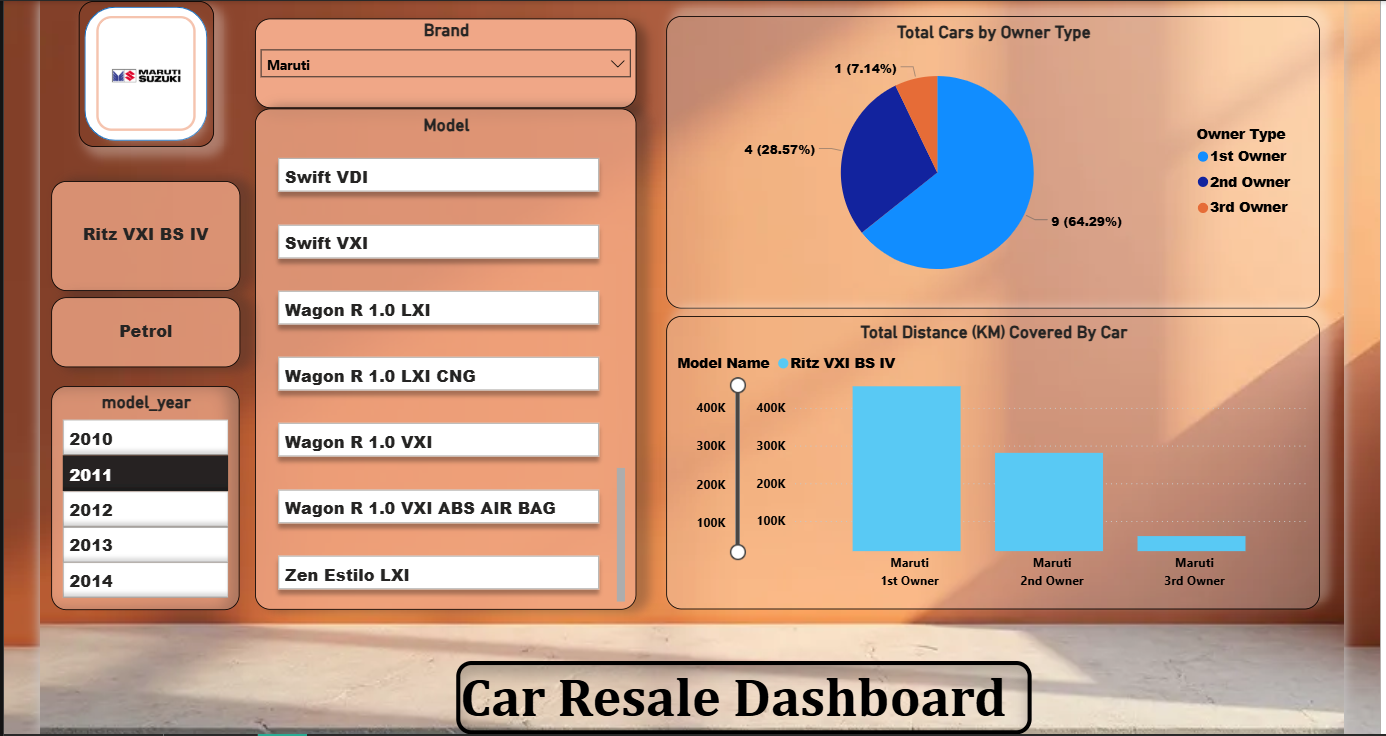

Layout of this report page (visuals, bound fields, positions):
{"tool":"powerbi","page":{"name":"Page 1","canvas":[1280,720],"ordinal":0},"visuals":[{"type":"shape","box":[38,0,132.5,143.6],"z":0,"group":"g1"},{"type":"textbox","box":[408.6,647.9,564.4,72.4],"z":0},{"type":"card","title":"Seelected Model","fields":{"Values":["Min(Pre-Owned Car Resale in India-2021.model_name)"]},"box":[11,176.7,185.3,108],"z":1000},{"type":"tableEx","fields":{"Values":["Sheet1.Logo"]},"box":[55.6,15.2,97.3,113.1],"z":2000,"group":"g1"},{"type":"slicer","title":"Brand","fields":{"Values":["Pre-Owned Car Resale in India-2021.maker"]},"box":[211,17.2,374.2,88.3],"z":2000},{"type":"advancedSlicerVisual","title":"Model","fields":{"Values":["Pre-Owned Car Resale in India-2021.model_name"]},"box":[211,105.5,374.2,492],"z":3000},{"type":"card","title":"Fuel Type","fields":{"Values":["Min(Pre-Owned Car Resale in India-2021.fuel_type)"]},"box":[11,290.8,185.3,68.7],"z":4000},{"type":"group","id":"g1","title":"Group 1","box":[38,0,132.5,143.6],"z":5000},{"type":"pieChart","fields":{"Category":["Pre-Owned Car Resale in India-2021.pre_owner"],"Y":["Pre-Owned Car Resale in India-2021.Total Model"]},"box":[614.7,14.7,641.7,287.1],"z":6000},{"type":"clusteredColumnChart","title":"Total Distance (KM) Covered By Car","fields":{"Category":["Pre-Owned Car Resale in India-2021.pre_owner","Pre-Owned Car Resale in India-2021.maker"],"Series":["Pre-Owned Car Resale in India-2021.model_name"],"Y":["Sum(Pre-Owned Car Resale in India-2021.distance_covered (km))"]},"box":[614.7,309.2,641.7,288.3],"z":7000},{"type":"advancedSlicerVisual","fields":{"Values":["Pre-Owned Car Resale in India-2021.model_year"]},"box":[11,378,185,220],"z":7001}]}

Visuals, with their boxes in screenshot pixels (x1, y1, x2, y2):
shape: 81, 4, 215, 148
textbox: 455, 657, 1024, 730
"Seelected Model" card: 54, 182, 241, 291
tableEx - Sheet1.Logo: 99, 19, 197, 133
"Brand" slicer: 256, 21, 633, 110
"Model" advancedSlicerVisual: 256, 110, 633, 606
"Fuel Type" card: 54, 297, 241, 366
"Group 1" group: 81, 4, 215, 148
pieChart - Pre-Owned Car Resale in India-2021.pre_owner x Pre-Owned Car Resale in India-2021.Total Model: 663, 18, 1310, 308
"Total Distance (KM) Covered By Car" clusteredColumnChart: 663, 315, 1310, 606
advancedSlicerVisual - Pre-Owned Car Resale in India-2021.model_year: 54, 385, 241, 607
